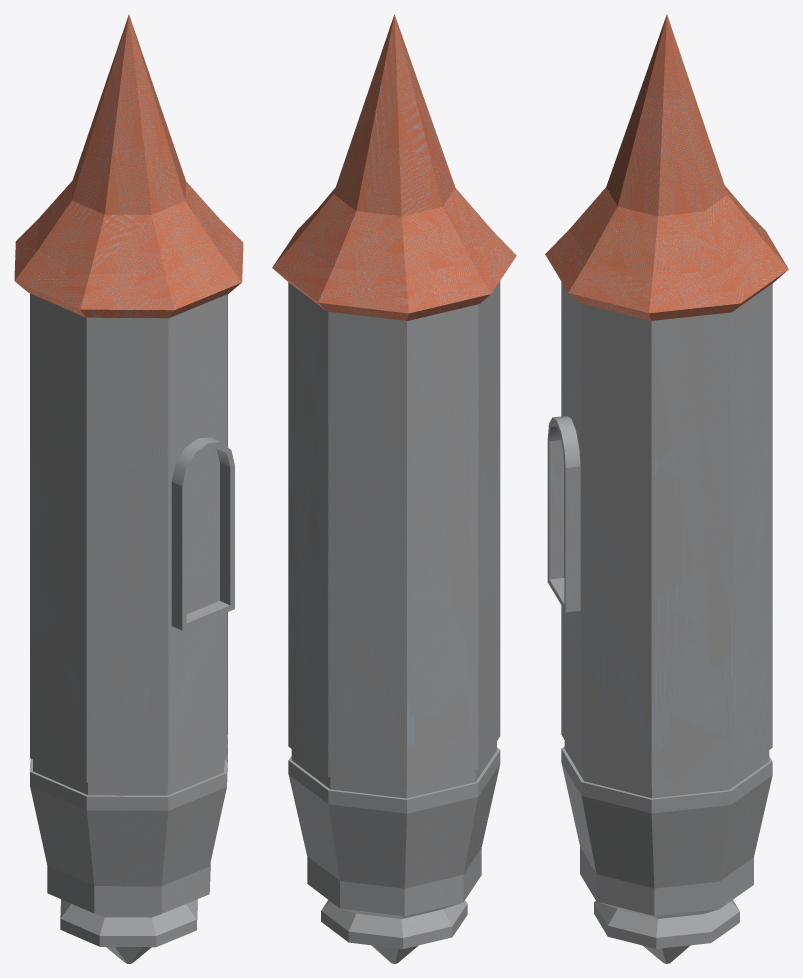
File: Tower3.fbx
3 views of the same model, side by side, from view 1: azimuth 30°, elevation 25°; view 2: azimuth 150°, elevation 25°; view 3: azimuth 270°, elevation 25° (orthographic).
Parts seen in each view (by area): view 1: Group3, Group2; view 2: Group3, Group2; view 3: Group3, Group2.
Boxes of the visible parts, bbox=[...] form: Group3: bbox=[30, 293, 234, 963]; Group2: bbox=[14, 14, 243, 318]; Group3: bbox=[288, 281, 500, 963]; Group2: bbox=[272, 14, 516, 320]; Group3: bbox=[547, 282, 772, 963]; Group2: bbox=[545, 14, 788, 320].
Bounding box in the file's own units: 800 × 3432 × 800.
